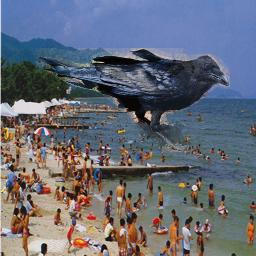Crow: (35, 48, 230, 152)
